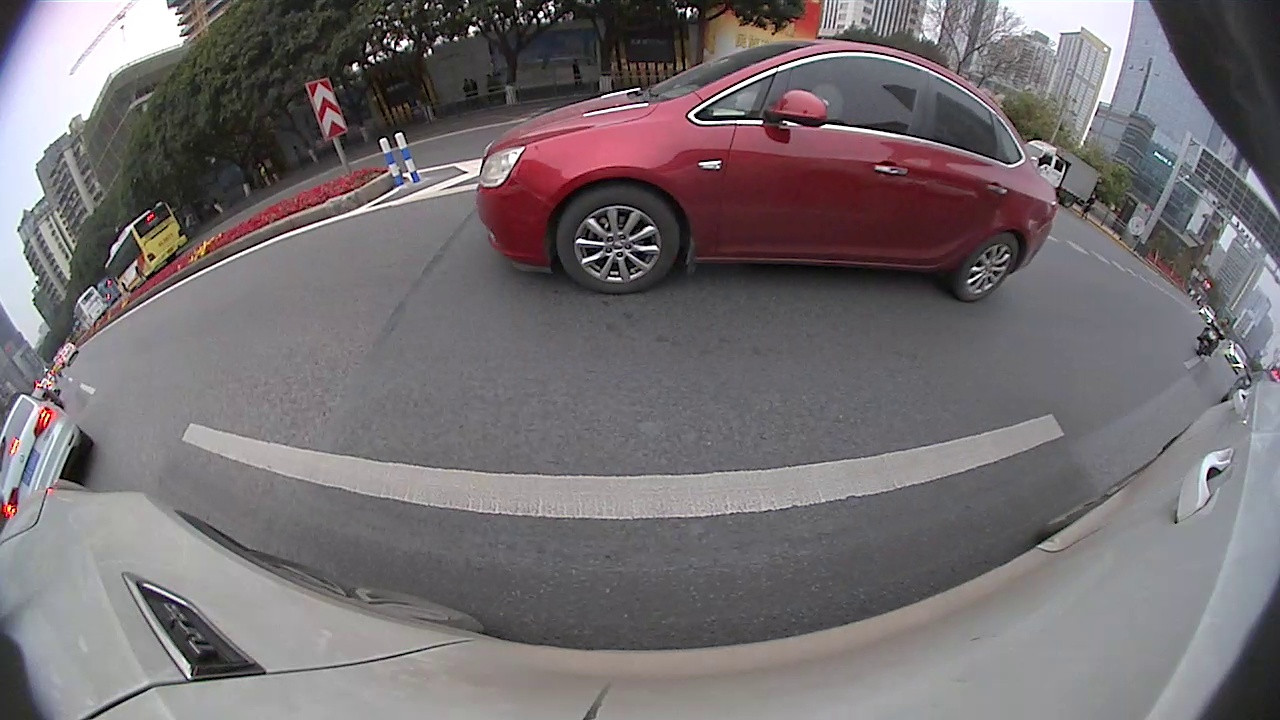bus: (103, 199, 189, 292), (70, 285, 109, 328)
car: (473, 33, 1058, 304), (0, 390, 95, 527)
front: (555, 186, 680, 297)
rear: (958, 234, 1019, 303)
rider: (1199, 306, 1231, 361)
truck: (1024, 136, 1101, 211)
